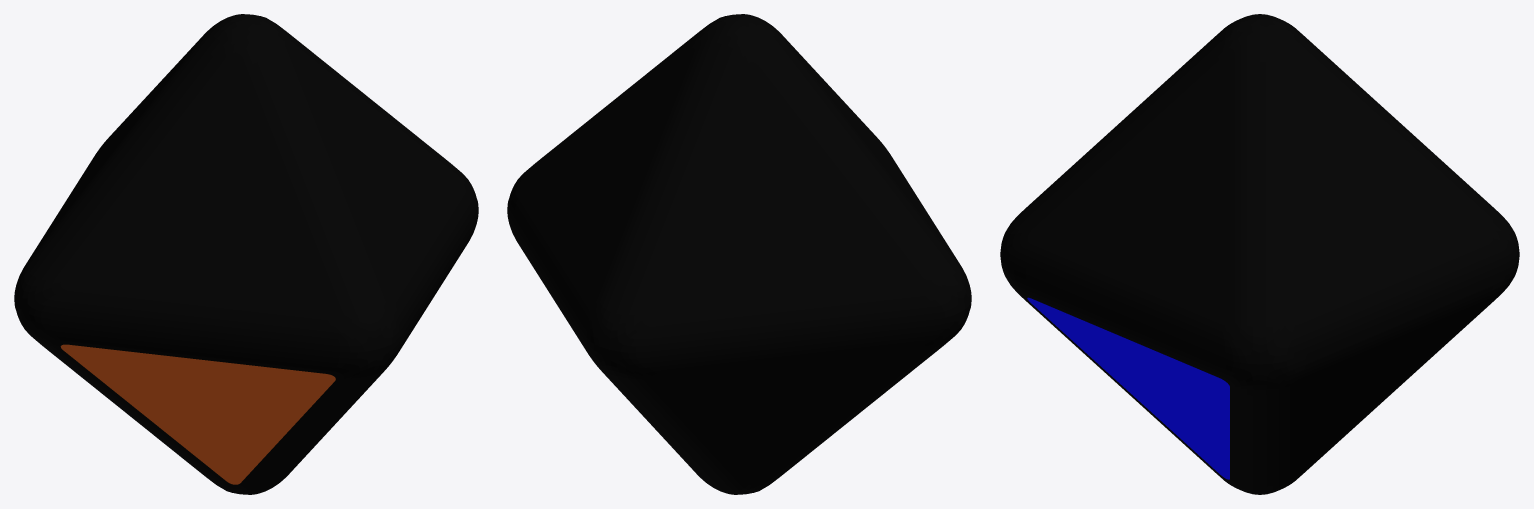
3 renders of one model, left to right at view 1: azimuth 30°, elevation 25°; view 2: azimuth 150°, elevation 25°; view 3: azimuth 270°, elevation 25°, orthographic.
Visible parts, largest first — view 1: bd; view 2: bd; view 3: bd.
Boxes of the visible parts, left/top/right/bottom form: bd: left=14, top=14, right=478, bottom=494; bd: left=507, top=14, right=971, bottom=494; bd: left=1000, top=14, right=1519, bottom=494.
Bounding box in the file's own units: 174 × 174 × 174.
